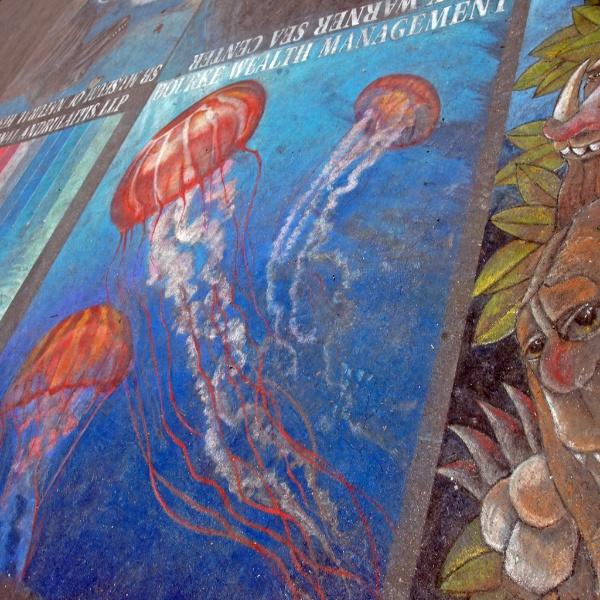Jellyfish: (107, 78, 398, 599), (274, 93, 452, 443), (0, 303, 133, 599)
